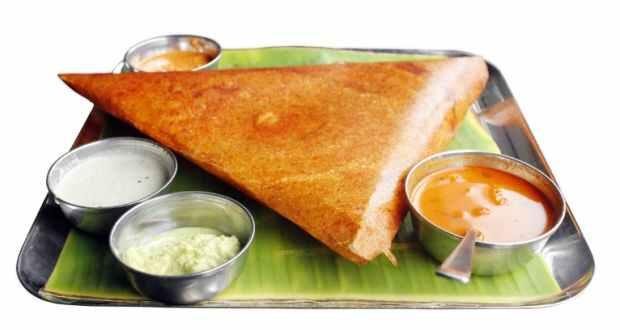dosa: (56, 72, 513, 266)
